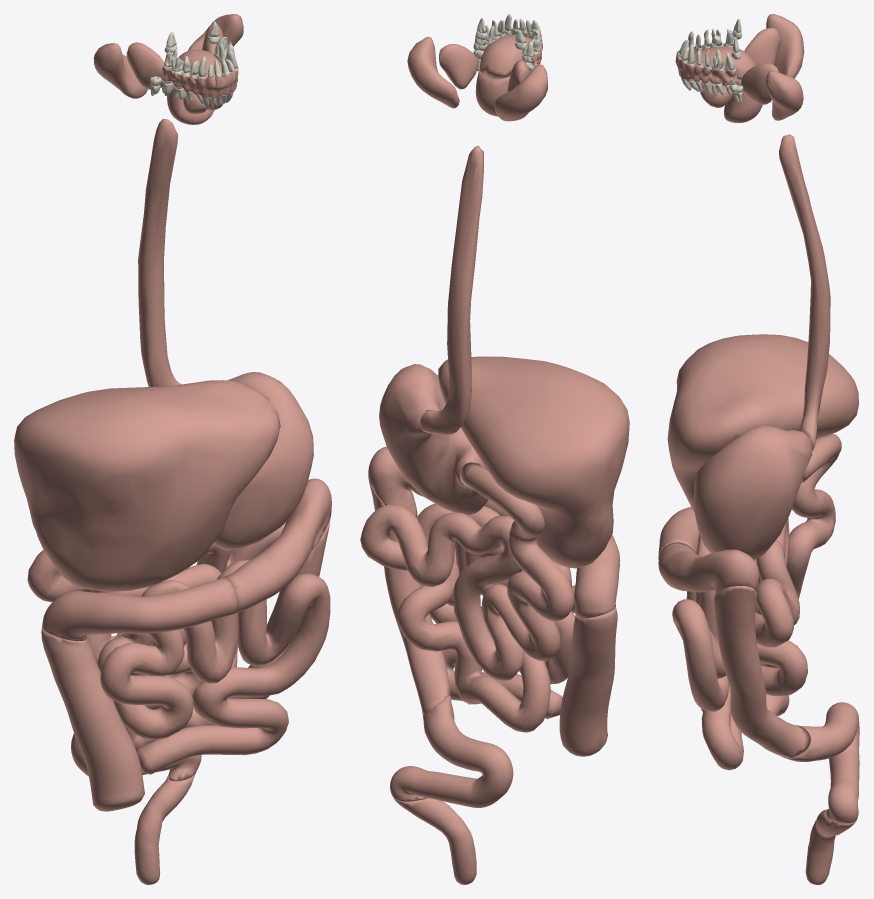
Rendered from pediatric_adolescent_female.digestive.LOD0.glb.
3 renders of one model, left to right at view 1: azimuth 30°, elevation 25°; view 2: azimuth 150°, elevation 25°; view 3: azimuth 270°, elevation 25°, orthographic. The views are drawn at different scales.
Visible parts, largest first — view 1: PEDIATRIC.ADOLESCENT.FEMALE.DIGESTIVE.LIVER, PEDIATRIC.ADOLESCENT.FEMALE.DIGESTIVE.SMALL_INTESTINE_WALL, PEDIATRIC.ADOLESCENT.FEMALE.DIGESTIVE.TRANSVERSE_COLON_WALL. (×2), PEDIATRIC.ADOLESCENT.FEMALE.DIGESTIVE.ASCENDING_COLON_WALL, PEDIATRIC.ADOLESCENT.FEMALE.DIGESTIVE.STOMACH_WALL, PEDIATRIC.ADOLESCENT.FEMALE.DIGESTIVE.OESOPHAGUS_WALL, PEDIATRIC.ADOLESCENT.FEMALE.DIGESTIVE.SALIVARY_GLANDS.R, PEDIATRIC.ADOLESCENT.FEMALE.DIGESTIVE.RECTUM_WALL, PEDIATRIC.ADOLESCENT.FEMALE.DIGESTIVE.PERMANENT_CEMENTUM, PEDIATRIC.ADOLESCENT.FEMALE.DIGESTIVE.ORAL_MUCOSA_LIP_AND_CH, PEDIATRIC.ADOLESCENT.FEMALE.DIGESTIVE.SALIVARY_GLANDS.L, PEDIATRIC.ADOLESCENT.FEMALE.DIGESTIVE.SIGMOID_COLON_WALL (+2 smaller); view 2: PEDIATRIC.ADOLESCENT.FEMALE.DIGESTIVE.SMALL_INTESTINE_WALL, PEDIATRIC.ADOLESCENT.FEMALE.DIGESTIVE.LIVER, PEDIATRIC.ADOLESCENT.FEMALE.DIGESTIVE.STOMACH_WALL, PEDIATRIC.ADOLESCENT.FEMALE.DIGESTIVE.OESOPHAGUS_WALL, PEDIATRIC.ADOLESCENT.FEMALE.DIGESTIVE.SIGMOID_COLON_WALL, PEDIATRIC.ADOLESCENT.FEMALE.DIGESTIVE.ASCENDING_COLON_WALL, PEDIATRIC.ADOLESCENT.FEMALE.DIGESTIVE.TRANSVERSE_COLON_WALL. (×2), PEDIATRIC.ADOLESCENT.FEMALE.DIGESTIVE.DESCENDING_COLON_WALL, PEDIATRIC.ADOLESCENT.FEMALE.DIGESTIVE.SALIVARY_GLANDS.L, PEDIATRIC.ADOLESCENT.FEMALE.DIGESTIVE.RECTUM_WALL, PEDIATRIC.ADOLESCENT.FEMALE.DIGESTIVE.SALIVARY_GLANDS.R, PEDIATRIC.ADOLESCENT.FEMALE.DIGESTIVE.ORAL_MUCOSA_MOUTH_FLOO (+2 smaller); view 3: PEDIATRIC.ADOLESCENT.FEMALE.DIGESTIVE.SMALL_INTESTINE_WALL, PEDIATRIC.ADOLESCENT.FEMALE.DIGESTIVE.LIVER, PEDIATRIC.ADOLESCENT.FEMALE.DIGESTIVE.STOMACH_WALL, PEDIATRIC.ADOLESCENT.FEMALE.DIGESTIVE.DESCENDING_COLON_WALL, PEDIATRIC.ADOLESCENT.FEMALE.DIGESTIVE.OESOPHAGUS_WALL, PEDIATRIC.ADOLESCENT.FEMALE.DIGESTIVE.TRANSVERSE_COLON_WALL. (×2), PEDIATRIC.ADOLESCENT.FEMALE.DIGESTIVE.SIGMOID_COLON_WALL, PEDIATRIC.ADOLESCENT.FEMALE.DIGESTIVE.SALIVARY_GLANDS.L, PEDIATRIC.ADOLESCENT.FEMALE.DIGESTIVE.SALIVARY_GLANDS.R, PEDIATRIC.ADOLESCENT.FEMALE.DIGESTIVE.PERMANENT_CEMENTUM, PEDIATRIC.ADOLESCENT.FEMALE.DIGESTIVE.RECTUM_WALL, PEDIATRIC.ADOLESCENT.FEMALE.DIGESTIVE.ORAL_MUCOSA_LIP_AND_CH (+2 smaller).
Boxes of the visible parts, box(x1,y1,x2,y2) form: PEDIATRIC.ADOLESCENT.FEMALE.DIGESTIVE.LIVER: box(14, 380, 280, 591); PEDIATRIC.ADOLESCENT.FEMALE.DIGESTIVE.SMALL_INTESTINE_WALL: box(27, 522, 330, 774); PEDIATRIC.ADOLESCENT.FEMALE.DIGESTIVE.TRANSVERSE_COLON_WALL. (×2): box(42, 478, 331, 641); PEDIATRIC.ADOLESCENT.FEMALE.DIGESTIVE.ASCENDING_COLON_WALL: box(41, 627, 144, 811); PEDIATRIC.ADOLESCENT.FEMALE.DIGESTIVE.STOMACH_WALL: box(213, 372, 313, 550); PEDIATRIC.ADOLESCENT.FEMALE.DIGESTIVE.OESOPHAGUS_WALL: box(138, 118, 181, 386); PEDIATRIC.ADOLESCENT.FEMALE.DIGESTIVE.SALIVARY_GLANDS.R: box(93, 42, 209, 114); PEDIATRIC.ADOLESCENT.FEMALE.DIGESTIVE.RECTUM_WALL: box(134, 773, 195, 884); PEDIATRIC.ADOLESCENT.FEMALE.DIGESTIVE.PERMANENT_CEMENTUM: box(150, 21, 237, 108); PEDIATRIC.ADOLESCENT.FEMALE.DIGESTIVE.ORAL_MUCOSA_LIP_AND_CH: box(162, 64, 238, 98); PEDIATRIC.ADOLESCENT.FEMALE.DIGESTIVE.SALIVARY_GLANDS.L: box(188, 14, 243, 110); PEDIATRIC.ADOLESCENT.FEMALE.DIGESTIVE.SIGMOID_COLON_WALL: box(71, 733, 201, 781); PEDIATRIC.ADOLESCENT.FEMALE.DIGESTIVE.SMALL_INTESTINE_WALL: box(360, 462, 575, 732); PEDIATRIC.ADOLESCENT.FEMALE.DIGESTIVE.LIVER: box(438, 356, 629, 568); PEDIATRIC.ADOLESCENT.FEMALE.DIGESTIVE.STOMACH_WALL: box(379, 364, 488, 515); PEDIATRIC.ADOLESCENT.FEMALE.DIGESTIVE.OESOPHAGUS_WALL: box(420, 145, 483, 434); PEDIATRIC.ADOLESCENT.FEMALE.DIGESTIVE.SIGMOID_COLON_WALL: box(390, 695, 513, 807); PEDIATRIC.ADOLESCENT.FEMALE.DIGESTIVE.ASCENDING_COLON_WALL: box(559, 607, 617, 756); PEDIATRIC.ADOLESCENT.FEMALE.DIGESTIVE.TRANSVERSE_COLON_WALL. (×2): box(368, 446, 619, 618); PEDIATRIC.ADOLESCENT.FEMALE.DIGESTIVE.DESCENDING_COLON_WALL: box(369, 481, 450, 715); PEDIATRIC.ADOLESCENT.FEMALE.DIGESTIVE.SALIVARY_GLANDS.L: box(407, 36, 477, 108); PEDIATRIC.ADOLESCENT.FEMALE.DIGESTIVE.RECTUM_WALL: box(394, 798, 476, 884); PEDIATRIC.ADOLESCENT.FEMALE.DIGESTIVE.SALIVARY_GLANDS.R: box(494, 60, 547, 121); PEDIATRIC.ADOLESCENT.FEMALE.DIGESTIVE.ORAL_MUCOSA_MOUTH_FLOO: box(479, 35, 531, 79); PEDIATRIC.ADOLESCENT.FEMALE.DIGESTIVE.SMALL_INTESTINE_WALL: box(672, 433, 841, 770); PEDIATRIC.ADOLESCENT.FEMALE.DIGESTIVE.LIVER: box(667, 334, 858, 512); PEDIATRIC.ADOLESCENT.FEMALE.DIGESTIVE.STOMACH_WALL: box(693, 425, 812, 559); PEDIATRIC.ADOLESCENT.FEMALE.DIGESTIVE.DESCENDING_COLON_WALL: box(714, 586, 810, 758); PEDIATRIC.ADOLESCENT.FEMALE.DIGESTIVE.OESOPHAGUS_WALL: box(779, 134, 830, 451); PEDIATRIC.ADOLESCENT.FEMALE.DIGESTIVE.TRANSVERSE_COLON_WALL. (×2): box(658, 507, 759, 597); PEDIATRIC.ADOLESCENT.FEMALE.DIGESTIVE.SIGMOID_COLON_WALL: box(782, 702, 859, 823); PEDIATRIC.ADOLESCENT.FEMALE.DIGESTIVE.SALIVARY_GLANDS.L: box(700, 63, 803, 120); PEDIATRIC.ADOLESCENT.FEMALE.DIGESTIVE.SALIVARY_GLANDS.R: box(701, 14, 804, 85); PEDIATRIC.ADOLESCENT.FEMALE.DIGESTIVE.PERMANENT_CEMENTUM: box(678, 19, 742, 103); PEDIATRIC.ADOLESCENT.FEMALE.DIGESTIVE.RECTUM_WALL: box(805, 809, 855, 884); PEDIATRIC.ADOLESCENT.FEMALE.DIGESTIVE.ORAL_MUCOSA_LIP_AND_CH: box(675, 43, 736, 83).
Size of the model in its own units: 0.2437 by 0.7343 by 0.1561.
